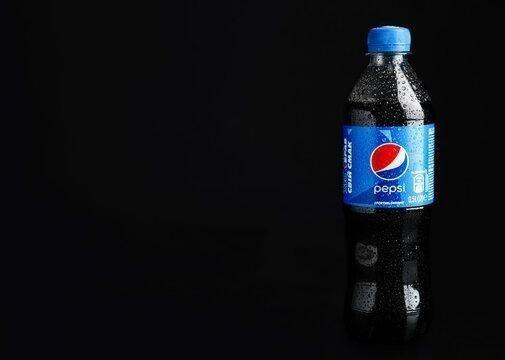bottle-plastic: (337, 20, 440, 347)
